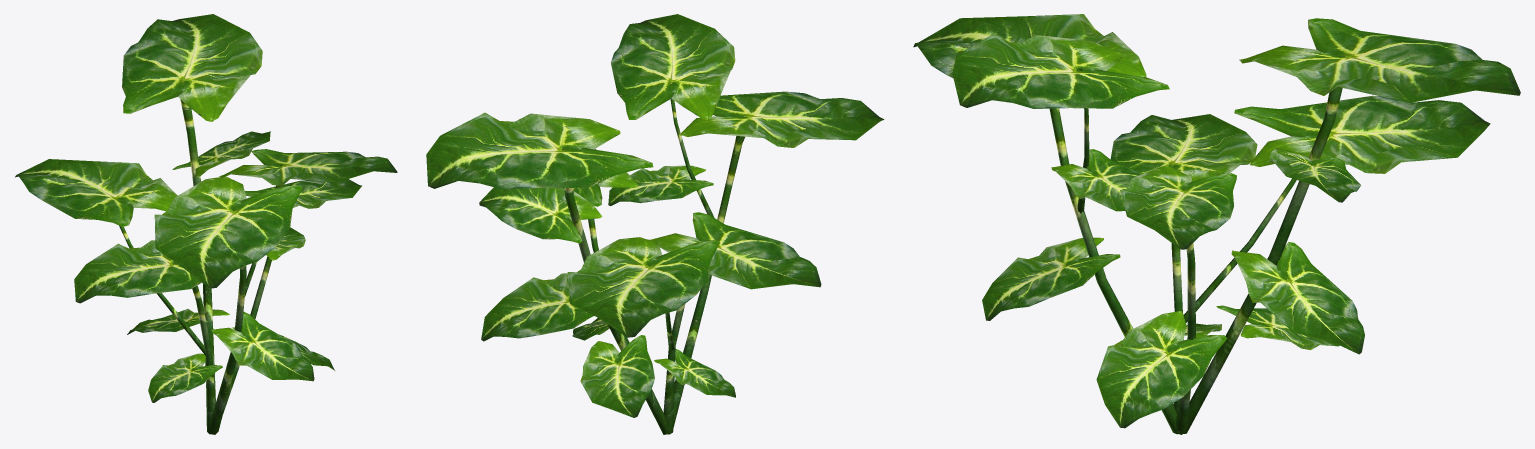
The model's file is Arrowhead2.fbx.
The picture shows the model from 3 angles, left to right: view 1: azimuth 30°, elevation 25°; view 2: azimuth 150°, elevation 25°; view 3: azimuth 270°, elevation 25°; orthographic projection. The views are drawn at different scales.
Visible parts, largest first — view 1: Arrowhead2; view 2: Arrowhead2; view 3: Arrowhead2.
Boxes of the visible parts, x1,y1,x2,y2 form: Arrowhead2: [15, 14, 397, 434]; Arrowhead2: [426, 14, 884, 434]; Arrowhead2: [913, 14, 1520, 434].
Bounding box in the file's own units: 42.39 × 43.88 × 57.77.
